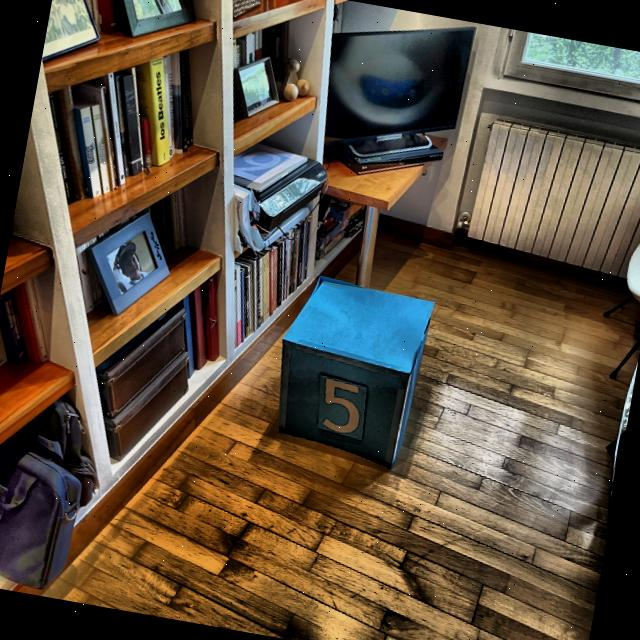blue box: (264, 268, 434, 472)
five: (313, 375, 370, 437)
